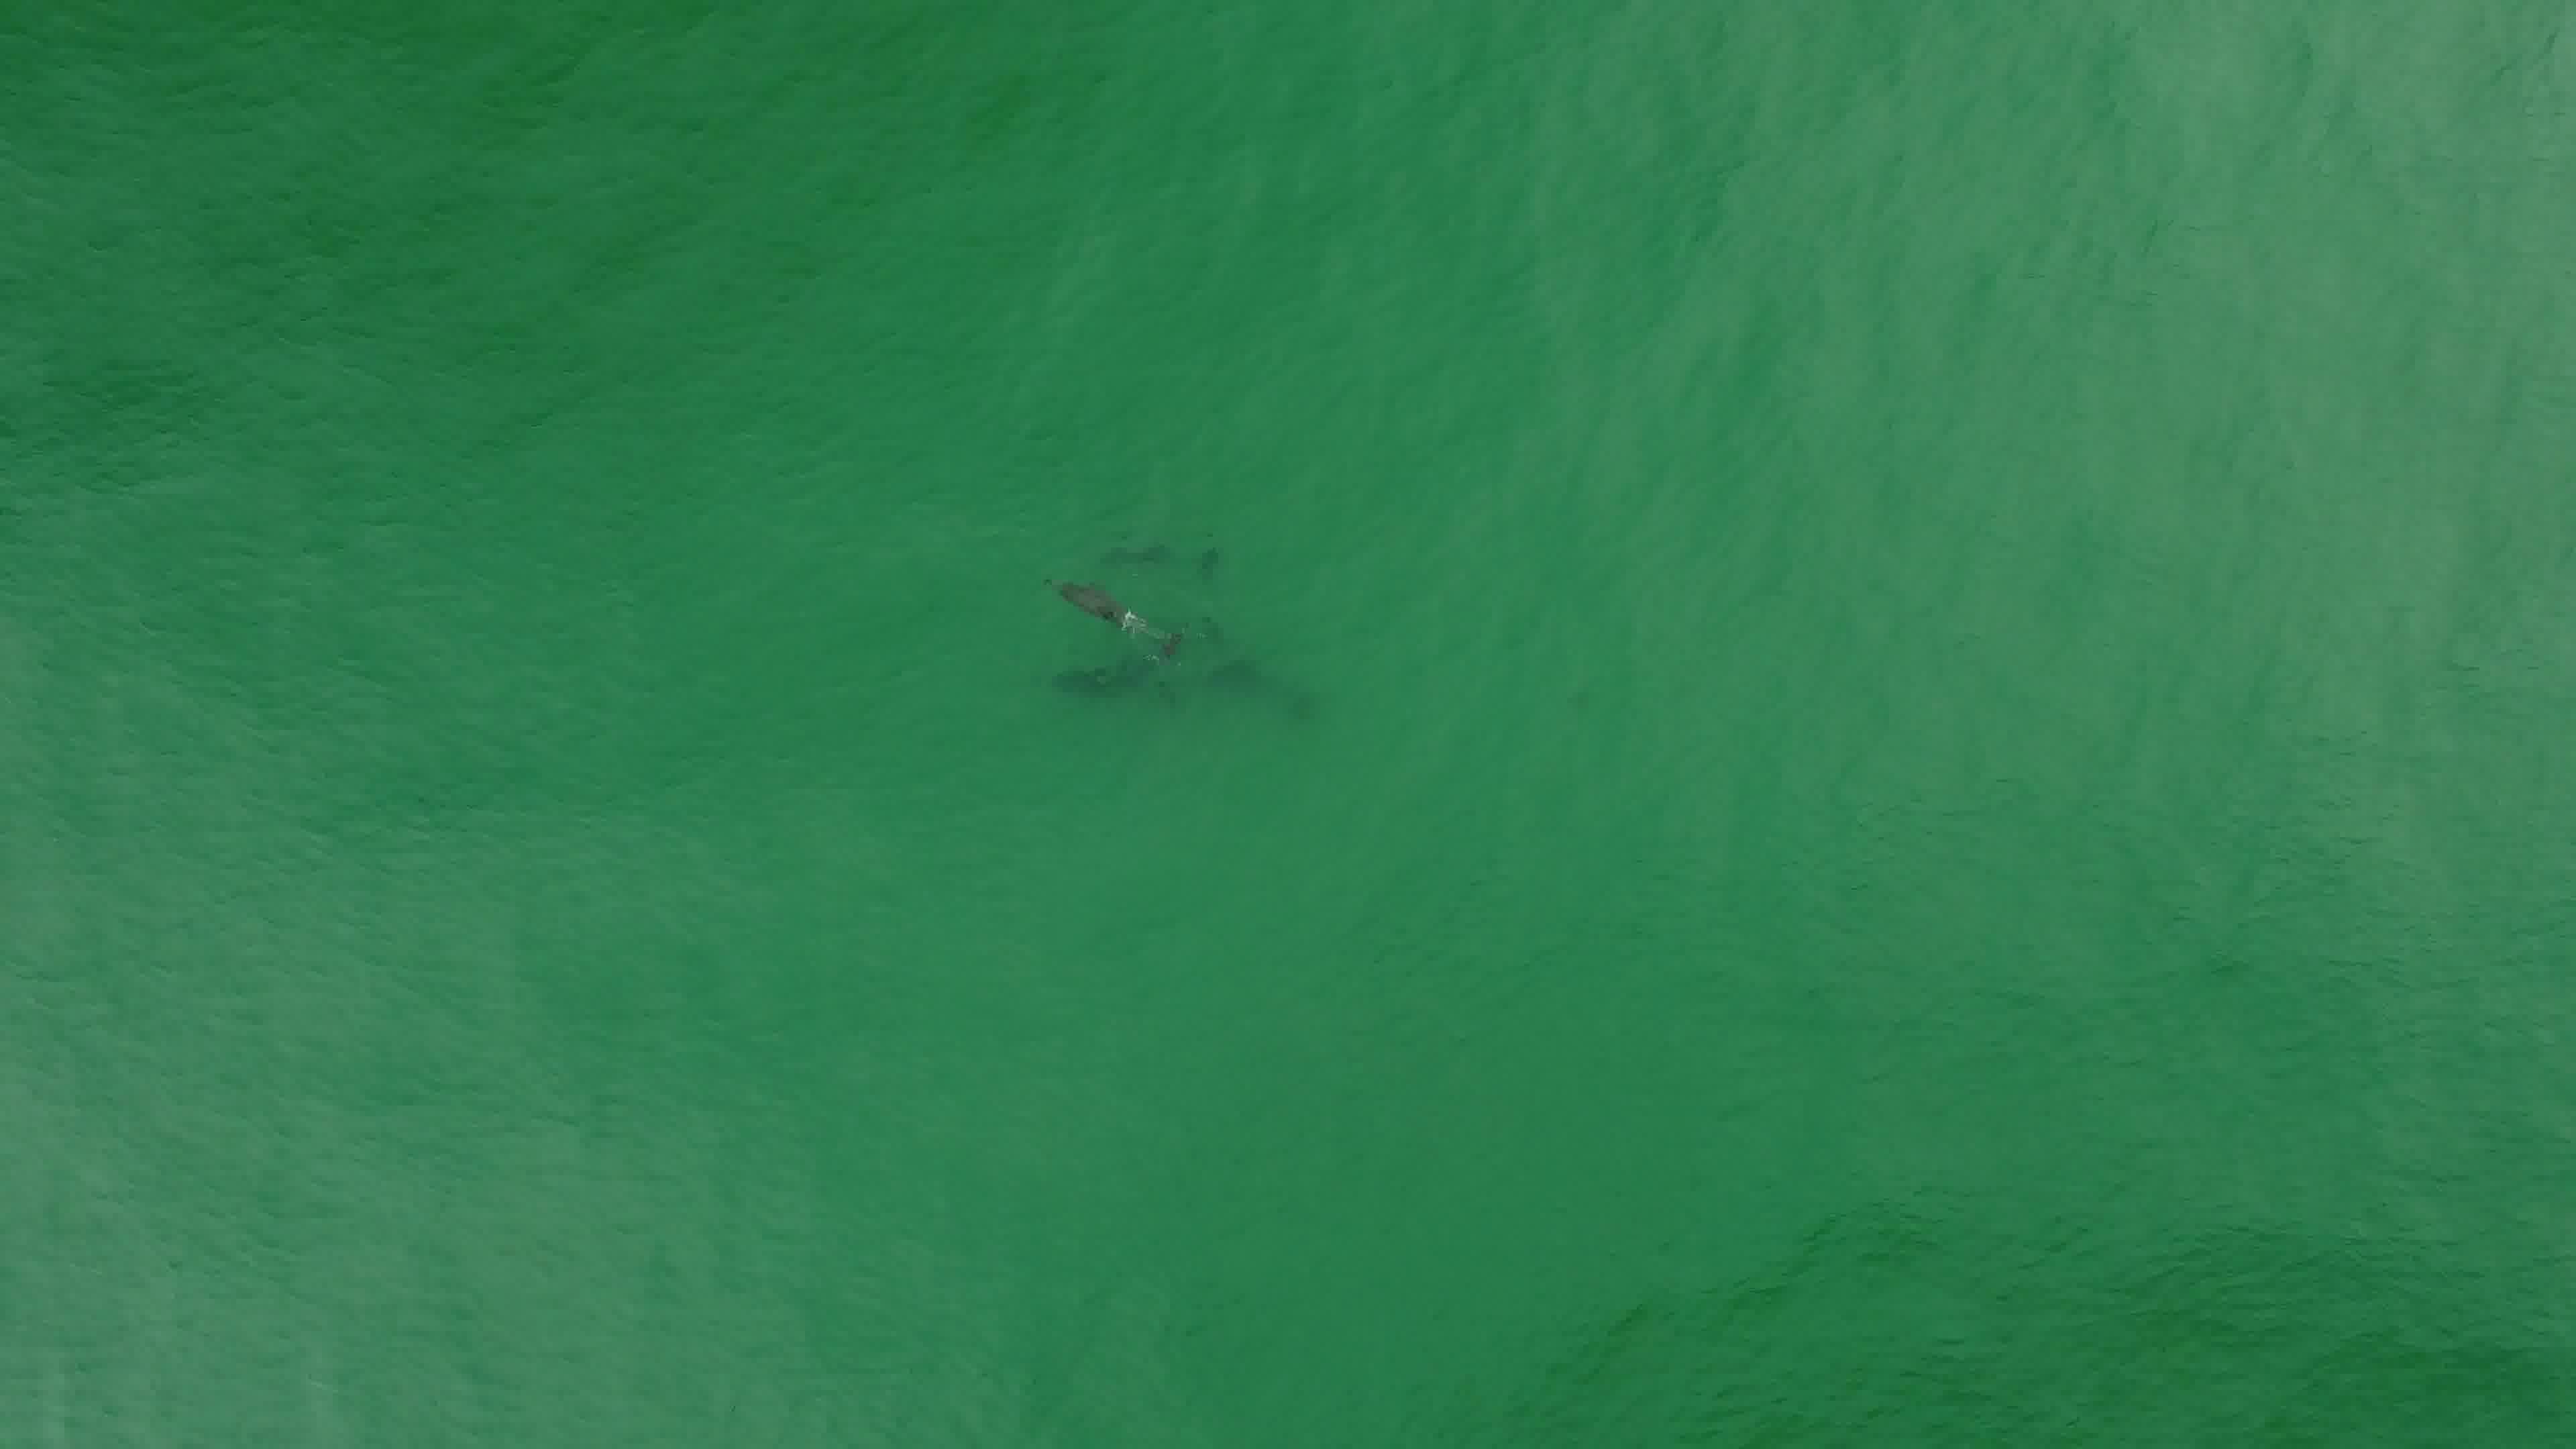dolphin: (1035, 561, 1189, 667)
